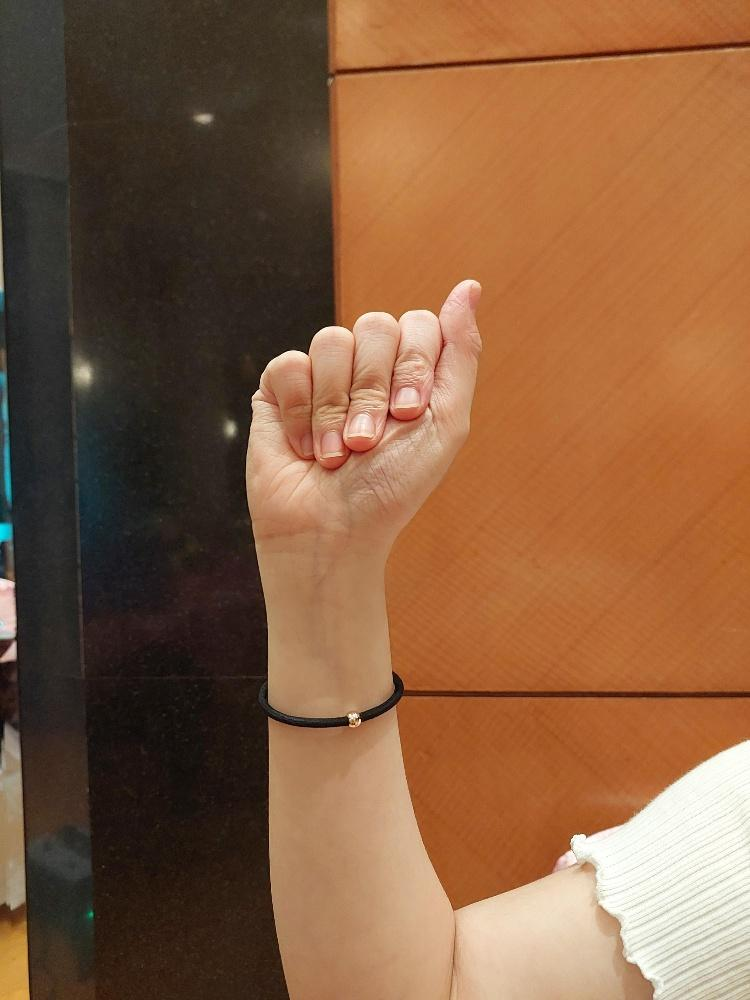a: (241, 273, 484, 545)
